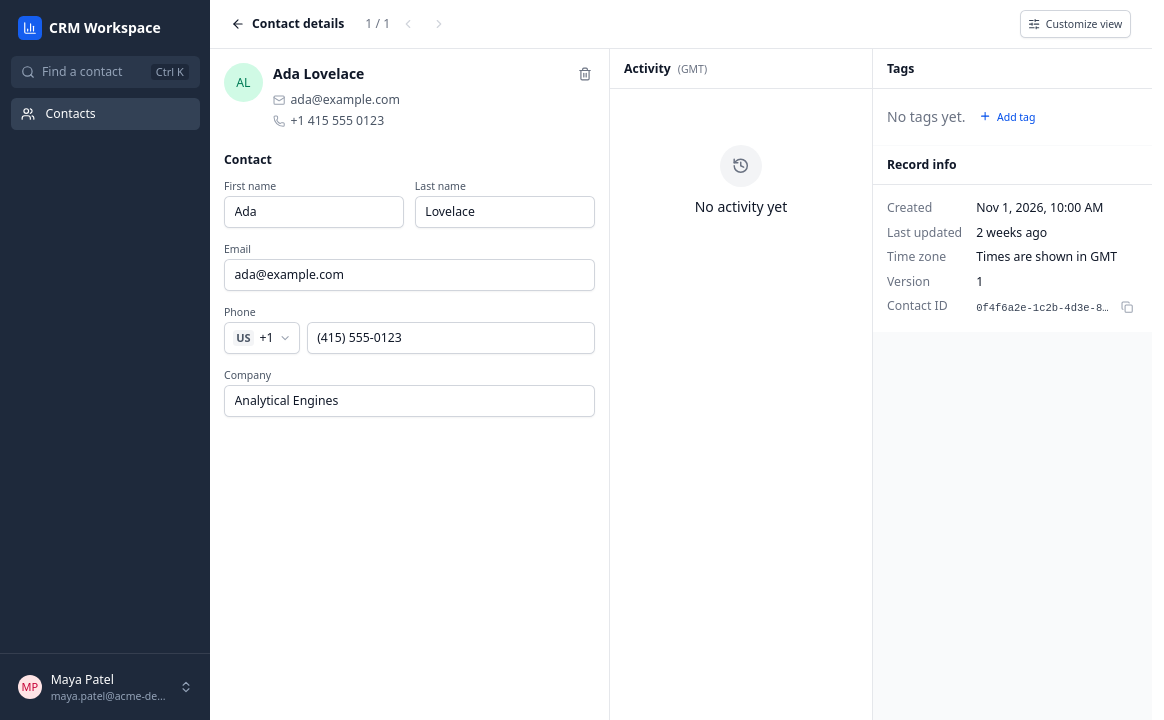
Scenario: ContactDetailPage › saves only the changed fields together with the version they were based on
Step 1. Replace the text in the field labelled "Company" with "Babbage & Co" → (410, 401), box x1=224 y1=385 x2=595 y2=416
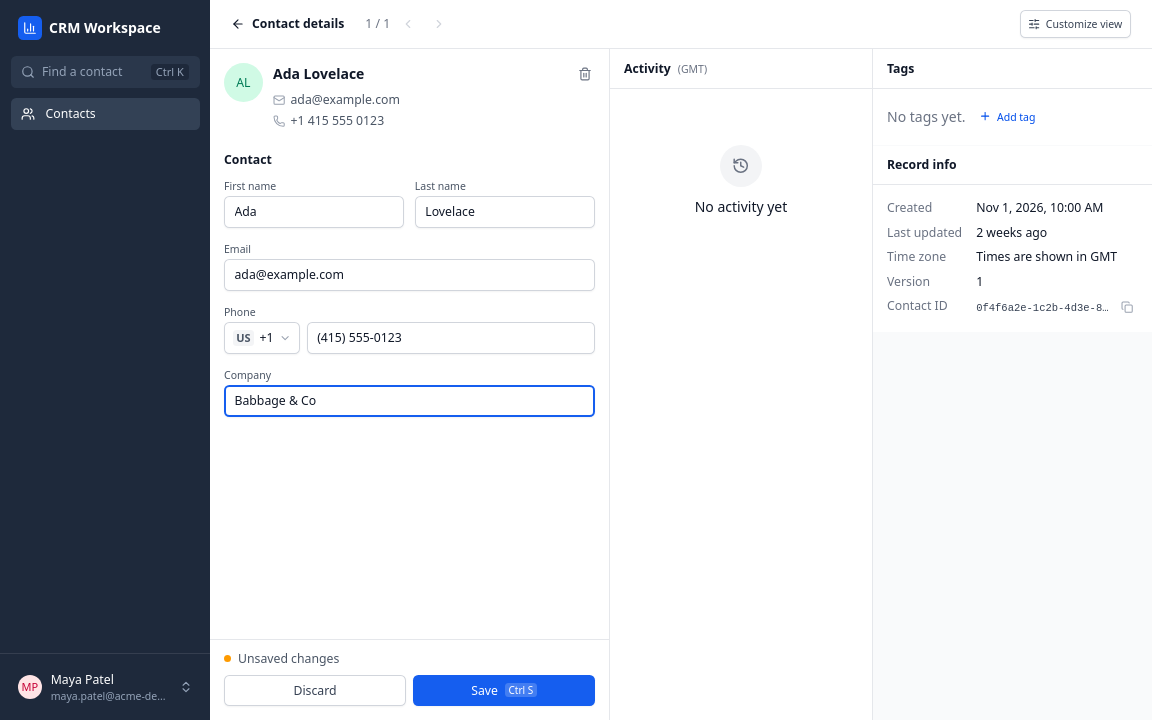
Step 2. Click the button "Save Ctrl S" → (504, 690), box x1=413 y1=674 x2=595 y2=706
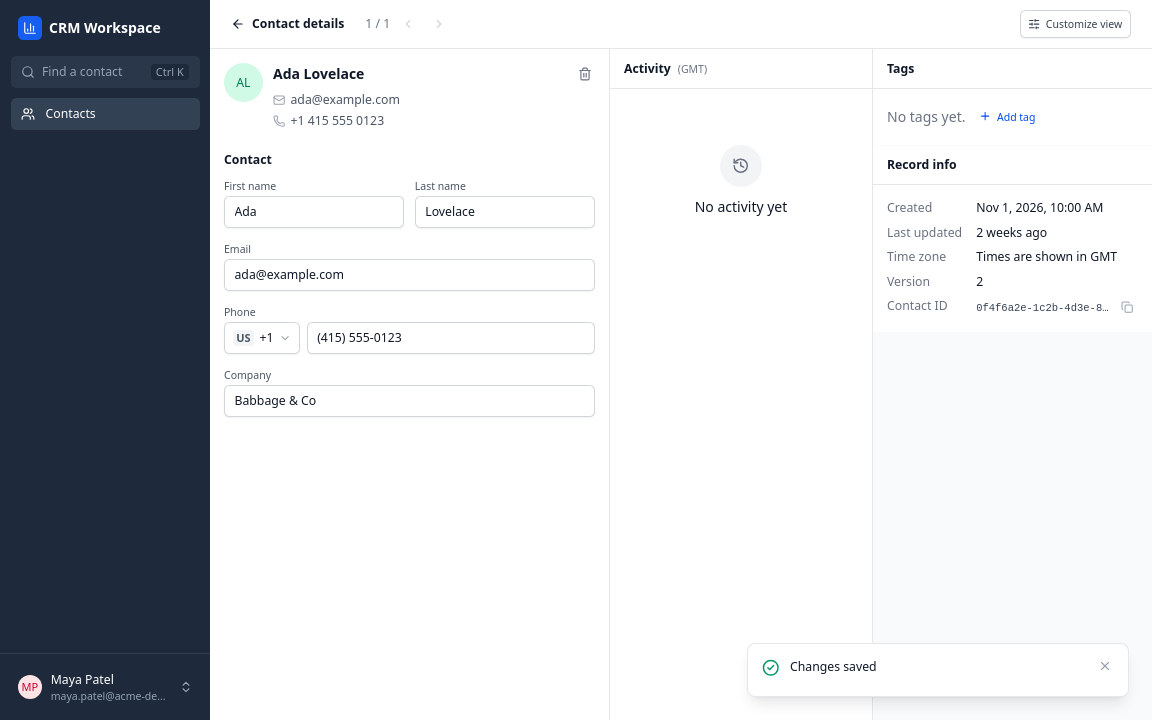
Check: the text "Changes saved" is shown, box x1=790 y1=658 x2=877 y2=674
